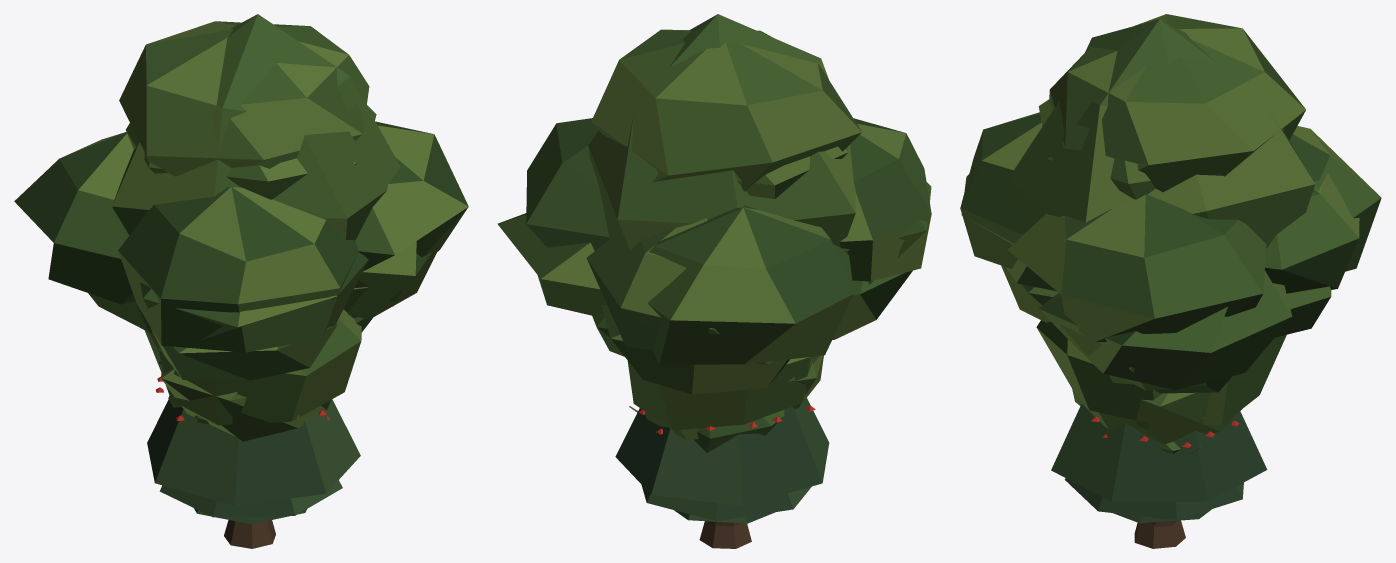
The model's file is natur_baeume.glb.
3 views of the same model, side by side, from view 1: azimuth 30°, elevation 25°; view 2: azimuth 150°, elevation 25°; view 3: azimuth 270°, elevation 25° (orthographic).
Visible parts, largest first — view 1: Eiche3, Buche1, Tanne1, Eiche1, Linde1, Eiche2, Linde2, Tanne2; view 2: Eiche3, Buche1, Eiche1, Tanne1, Eiche2, Linde1, Tanne2, Apfelbaum1, Linde2; view 3: Eiche3, Eiche1, Buche1, Tanne1, Linde1, Linde2, Eiche2, Tanne2, Buche2.
Boxes of the visible parts, x1,y1,x2,y2 form: Eiche3: [14, 21, 468, 522]; Buche1: [112, 14, 400, 240]; Tanne1: [147, 360, 360, 505]; Eiche1: [125, 105, 436, 548]; Linde1: [144, 309, 361, 425]; Eiche2: [88, 286, 404, 380]; Linde2: [161, 367, 330, 441]; Tanne2: [159, 480, 342, 517]; Eiche3: [526, 29, 931, 526]; Buche1: [588, 14, 855, 249]; Eiche1: [497, 146, 931, 548]; Tanne1: [615, 376, 829, 506]; Eiche2: [569, 270, 912, 525]; Linde1: [627, 355, 823, 430]; Tanne2: [641, 485, 811, 520]; Apfelbaum1: [694, 403, 815, 452]; Linde2: [645, 355, 822, 440]; Eiche3: [960, 14, 1381, 341]; Eiche1: [961, 99, 1359, 548]; Buche1: [1008, 19, 1315, 248]; Tanne1: [1051, 404, 1267, 501]; Linde1: [1036, 320, 1286, 424]; Linde2: [1071, 385, 1241, 443]; Eiche2: [1001, 265, 1331, 527]; Tanne2: [1065, 478, 1243, 519]; Buche2: [1108, 375, 1232, 393].
Bounding box in the file's own units: 8.61 × 11.79 × 8.6.
